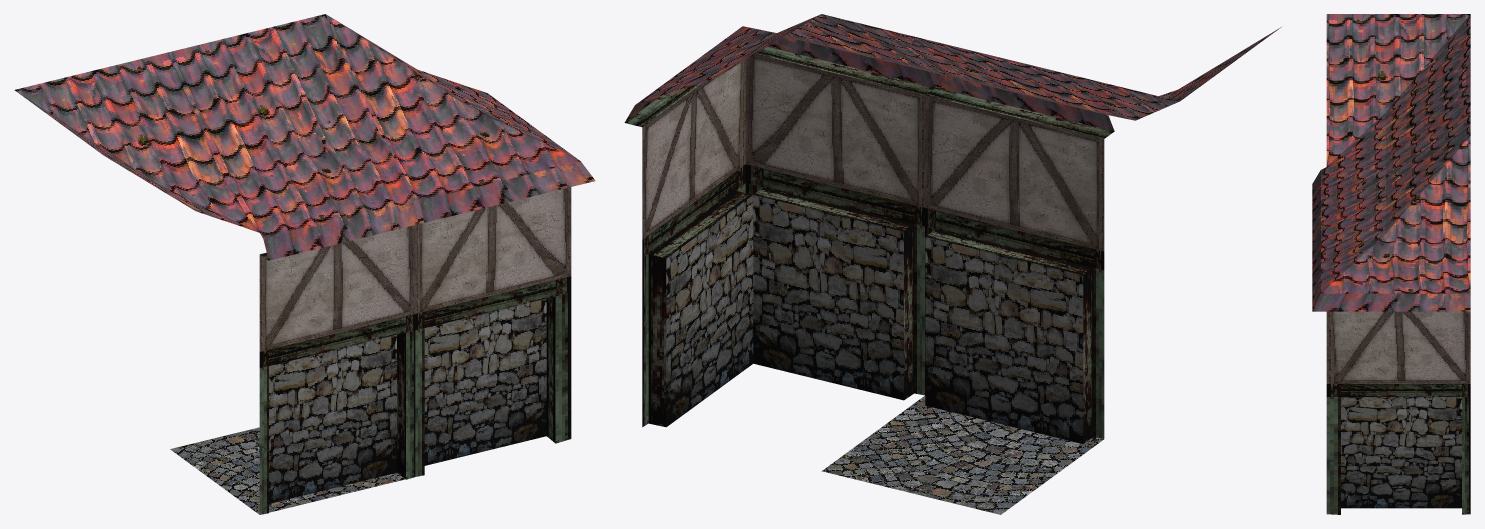
The model's file is tileset.glb.
3 renders of one model, left to right at view 1: azimuth 30°, elevation 25°; view 2: azimuth 150°, elevation 25°; view 3: azimuth 270°, elevation 25°, orthographic. The views are drawn at different scales.
Visible parts, largest first — view 1: b1.straight, b1.outcorner, b1.incorner, f.cobblearcs; view 2: b1.outcorner, b1.straight, f.cobblearcs, b1.incorner; view 3: b1.outcorner, b1.incorner, b1.straight.
Part boxes in pixels (<box>): b1.straight: <box>170,14,424,514</box>; b1.outcorner: <box>325,14,595,476</box>; b1.incorner: <box>14,52,259,232</box>; f.cobblearcs: <box>170,427,405,514</box>; b1.outcorner: <box>624,14,935,427</box>; b1.straight: <box>822,14,1114,443</box>; f.cobblearcs: <box>822,396,1103,514</box>; b1.incorner: <box>1001,27,1281,120</box>; b1.outcorner: <box>1312,136,1470,514</box>; b1.incorner: <box>1326,14,1470,166</box>; b1.straight: <box>1312,75,1470,244</box>.
Bounding box in the file's own units: 3.1 × 2.44 × 1.1.
Materials: 1 (1 with a texture image).
